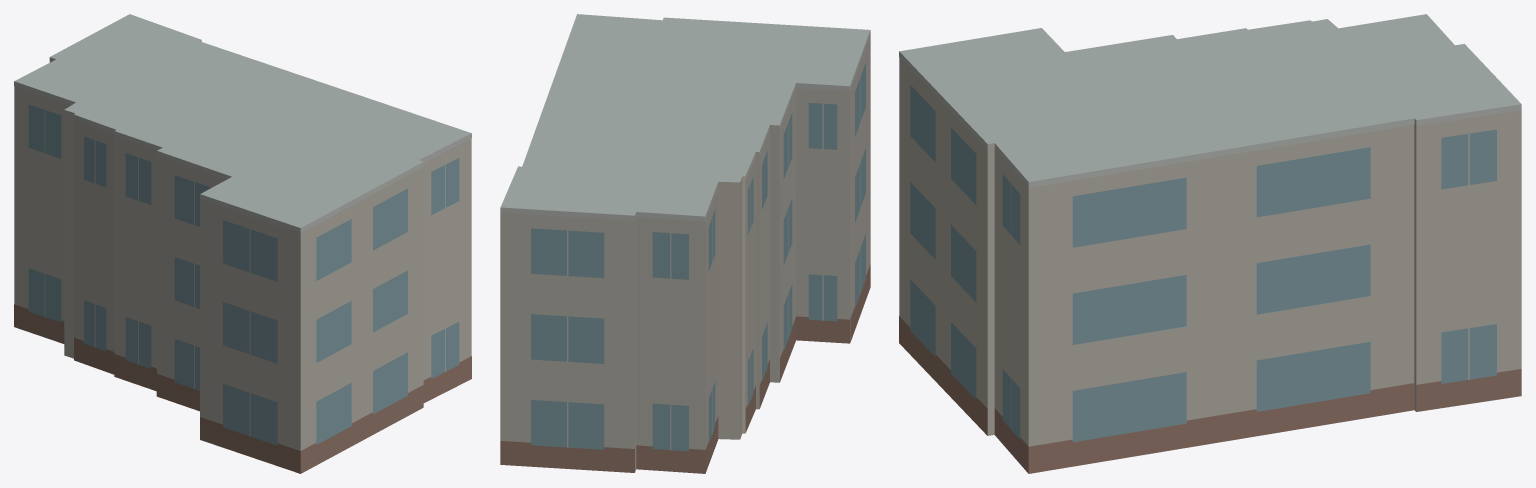
The model's file is survey-upis-32525820.glb.
3 renders of one model, left to right at view 1: azimuth 30°, elevation 25°; view 2: azimuth 150°, elevation 25°; view 3: azimuth 270°, elevation 25°, orthographic. The views are drawn at different scales.
Visible parts, largest first — view 1: survey-upis-32525820.tmp; view 2: survey-upis-32525820.tmp; view 3: survey-upis-32525820.tmp.
Part boxes in pixels (x1,y1,x2,y2): survey-upis-32525820.tmp: (14, 14, 471, 473); survey-upis-32525820.tmp: (500, 14, 870, 473); survey-upis-32525820.tmp: (899, 14, 1521, 473).
Size of the model in its own units: 14.71 by 11.9 by 23.02.
